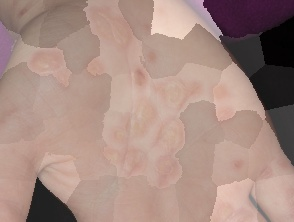SJS-TEN: (56, 3, 221, 200), (18, 31, 87, 95)
